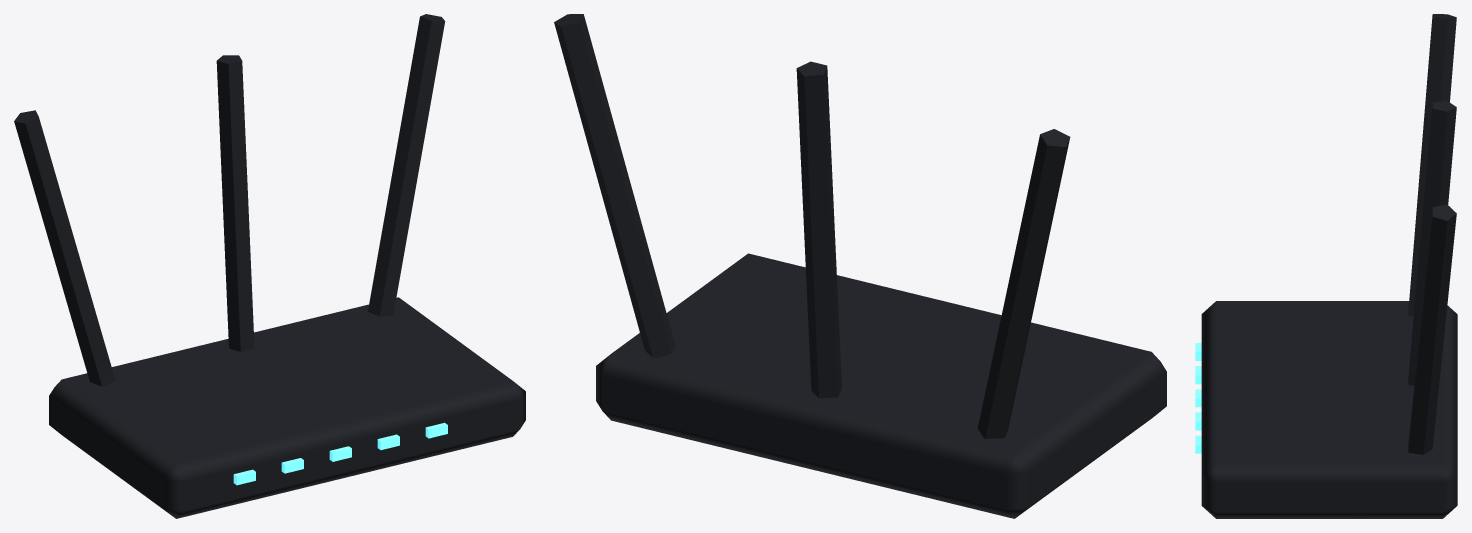
Rendered from station_transport_ausstattung_1_1.glb.
3 renders of one model, left to right at view 1: azimuth 30°, elevation 25°; view 2: azimuth 150°, elevation 25°; view 3: azimuth 270°, elevation 25°, orthographic. The views are drawn at different scales.
Parts seen in each view (by area): view 1: station_transport_ausstattung_1_1; view 2: station_transport_ausstattung_1_1; view 3: station_transport_ausstattung_1_1.
Boxes of the visible parts, x1,y1,x2,y2 form: station_transport_ausstattung_1_1: [14, 14, 525, 518]; station_transport_ausstattung_1_1: [554, 14, 1166, 518]; station_transport_ausstattung_1_1: [1195, 14, 1457, 518].
Bounding box in the file's own units: 0.4012 × 0.3007 × 0.215.
